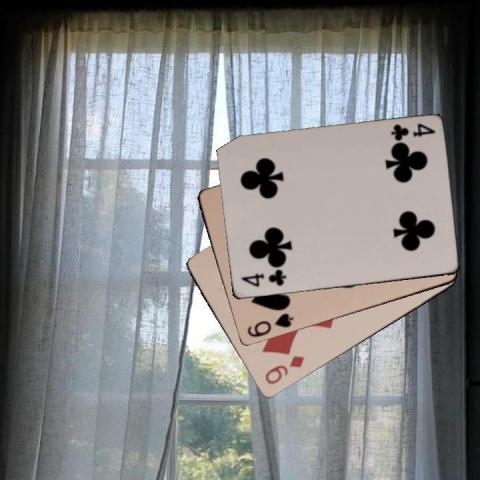4c: (238, 268, 288, 289), (388, 121, 436, 142)
6s: (244, 311, 295, 339)
9d: (261, 352, 306, 386)
